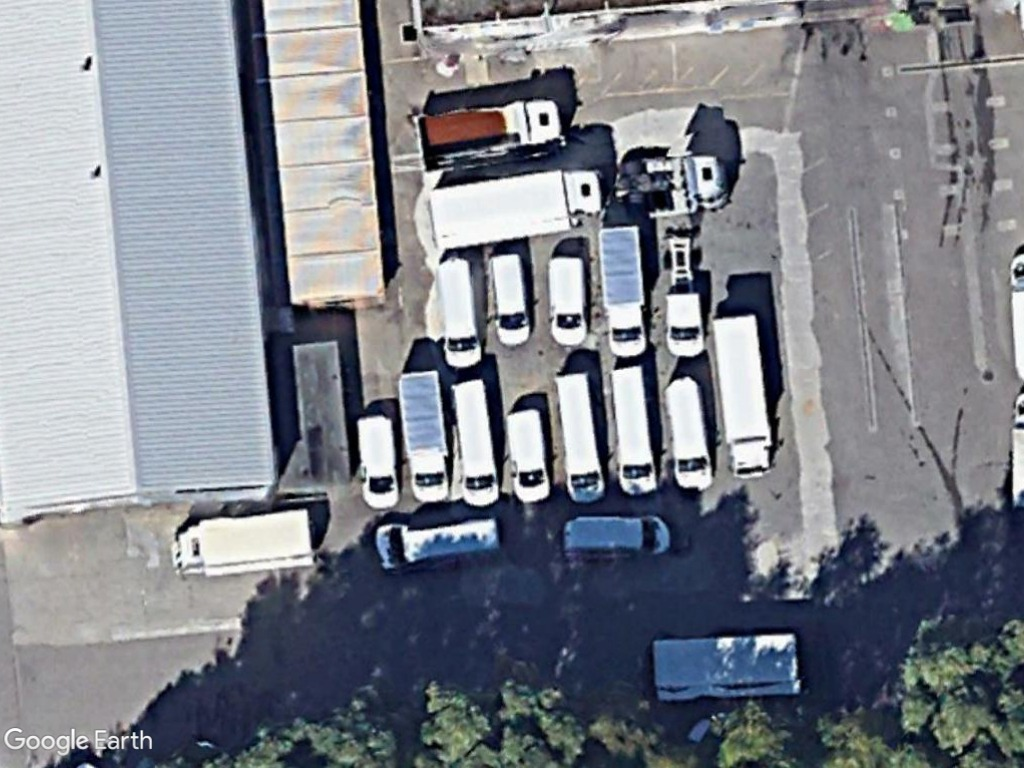others: (410, 97, 567, 175)
truck: (418, 161, 606, 254), (709, 309, 777, 479), (169, 504, 318, 575), (395, 368, 456, 509), (594, 219, 650, 361)
van: (448, 375, 505, 509), (606, 362, 660, 499), (552, 368, 604, 503), (662, 374, 716, 492), (432, 253, 484, 373), (556, 511, 671, 564), (352, 411, 403, 511), (490, 249, 536, 352), (504, 405, 551, 505), (547, 250, 588, 350)
